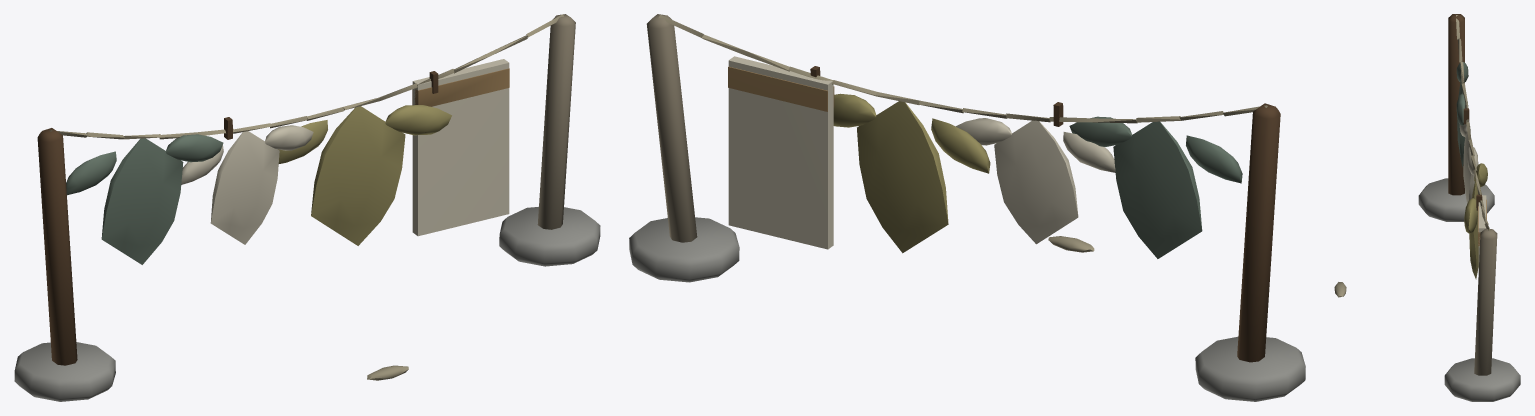
The model's file is laundry_line_a_lod1.glb.
The picture shows the model from 3 angles, left to right: view 1: azimuth 30°, elevation 25°; view 2: azimuth 150°, elevation 25°; view 3: azimuth 270°, elevation 25°; orthographic projection. The views are drawn at different scales.
Parts seen in each view (by area): view 1: Surface.001; view 2: Surface.001; view 3: Surface.001.
Boxes of the visible parts, x1,y1,x2,y2 form: Surface.001: [14, 14, 600, 401]; Surface.001: [629, 14, 1305, 401]; Surface.001: [1334, 14, 1520, 401].
Bounding box in the file's own units: 4.44 × 1.85 × 1.66.
